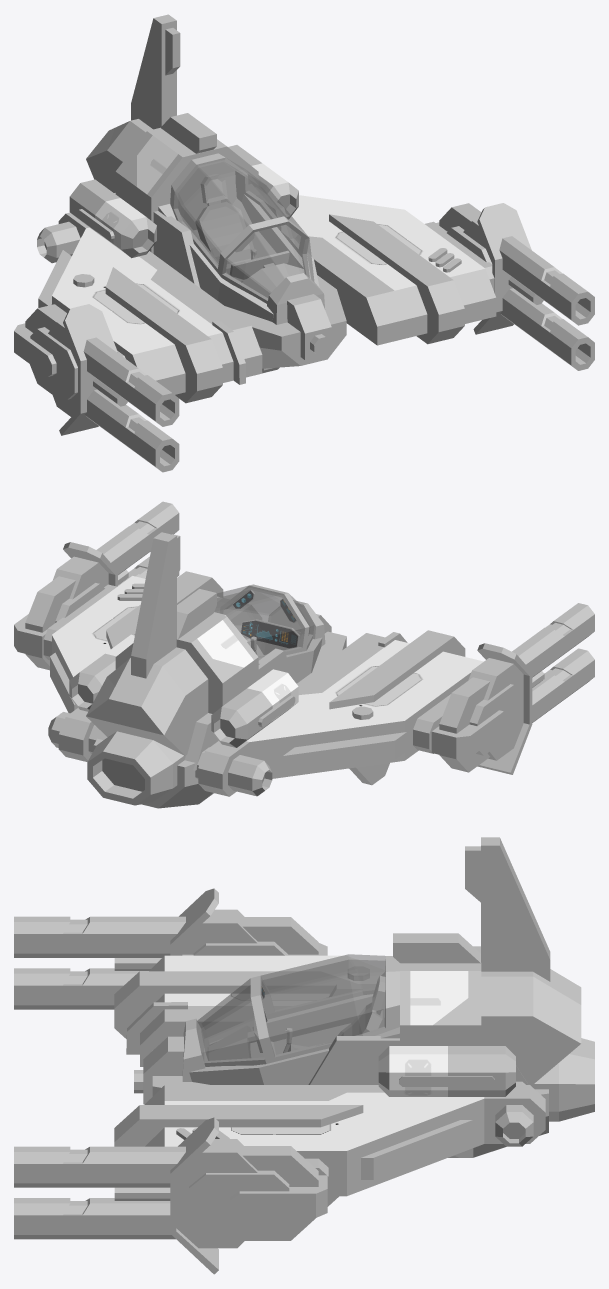
File: SM_SpaceshipS_Assault02.fbx
The picture shows the model from 3 angles, top to bottom: view 1: azimuth 30°, elevation 25°; view 2: azimuth 150°, elevation 25°; view 3: azimuth 270°, elevation 25°; orthographic projection. The views are drawn at different scales.
Visible parts, largest first — view 1: SM_SpaceshipS_Assault02_Body, SM_SpaceshipS_Assault02_R_Cannon, SM_SpaceshipS_Assault02_L_Cannon, SM_SpaceshipS_Assault02_Cockpit; view 2: SM_SpaceshipS_Assault02_Body, SM_SpaceshipS_Assault02_R_Cannon, SM_SpaceshipS_Assault02_L_Cannon, SM_SpaceshipS_Assault02_Cockpit; view 3: SM_SpaceshipS_Assault02_Body, SM_SpaceshipS_Assault02_L_Cannon, SM_SpaceshipS_Assault02_R_Cannon, SM_SpaceshipS_Assault02_Cockpit.
Part boxes in pixels (x1,y1,x2,y2): SM_SpaceshipS_Assault02_Body: [37, 14, 496, 403]; SM_SpaceshipS_Assault02_R_Cannon: [14, 304, 179, 472]; SM_SpaceshipS_Assault02_L_Cannon: [436, 203, 594, 370]; SM_SpaceshipS_Assault02_Cockpit: [173, 157, 303, 268]; SM_SpaceshipS_Assault02_Body: [43, 532, 483, 808]; SM_SpaceshipS_Assault02_R_Cannon: [431, 603, 594, 774]; SM_SpaceshipS_Assault02_L_Cannon: [14, 501, 179, 670]; SM_SpaceshipS_Assault02_Cockpit: [214, 585, 305, 657]; SM_SpaceshipS_Assault02_Body: [114, 837, 594, 1206]; SM_SpaceshipS_Assault02_L_Cannon: [14, 1117, 327, 1274]; SM_SpaceshipS_Assault02_R_Cannon: [14, 888, 327, 1009]; SM_SpaceshipS_Assault02_Cockpit: [260, 954, 385, 1056].
Bounding box in the file's own units: 563 × 326 × 548.
